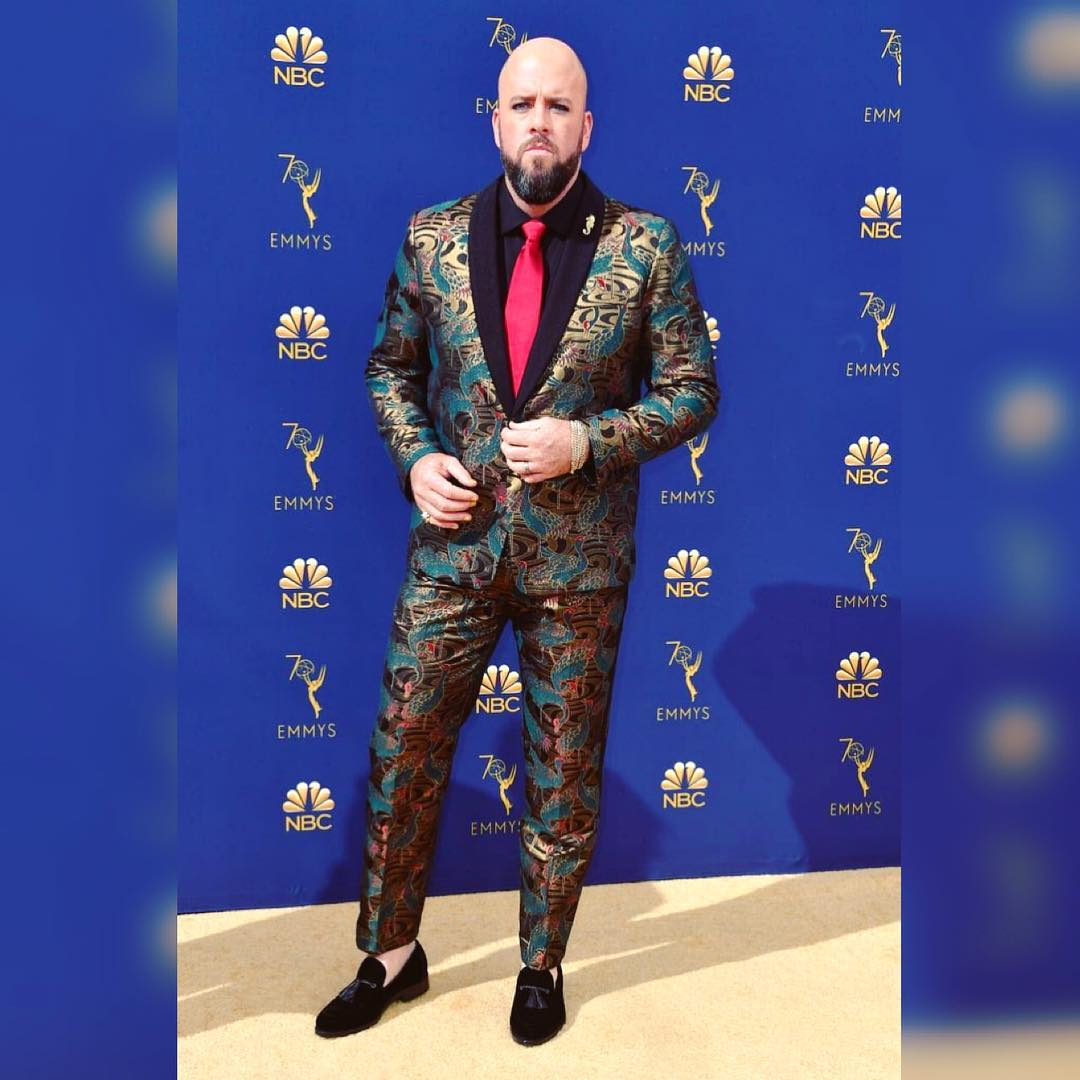hand: (410, 457, 468, 518)
